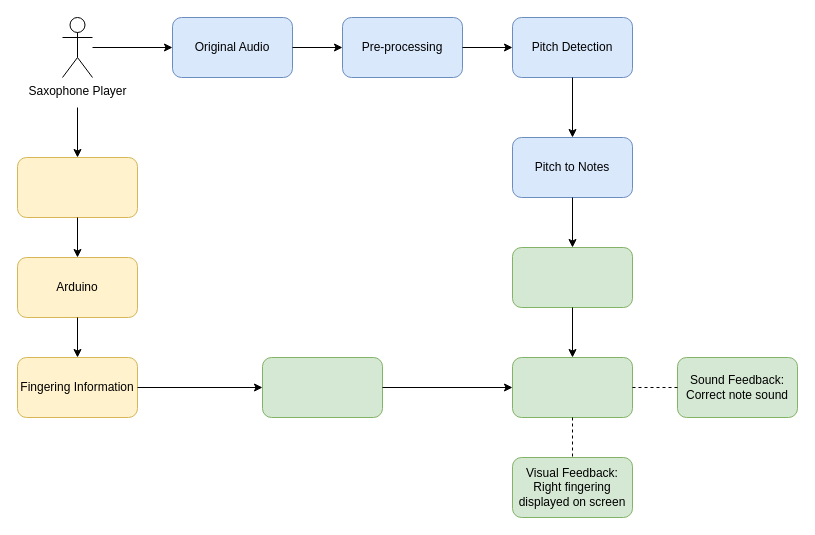
Some shapes in this 815 by 535 pixel diagram are drawn without their labels. Here are the shapes that lost their labels. From the top down, the centre of each, then its label:
pixel 77 187: Pressure Sensor
pixel 572 277: Match the input notes with built-in sheet music
pixel 322 387: Match the fingering with built-in sheet music
pixel 572 387: Generate Feedback
